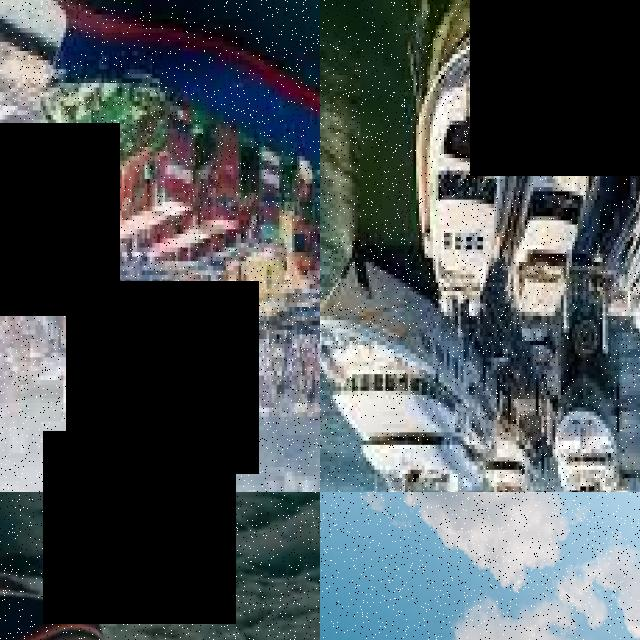boat: (1, 548, 111, 640)
cargo ship: (36, 1, 321, 383)
cruise ship: (405, 15, 512, 325), (506, 77, 605, 357), (321, 493, 428, 616), (615, 80, 640, 344)
